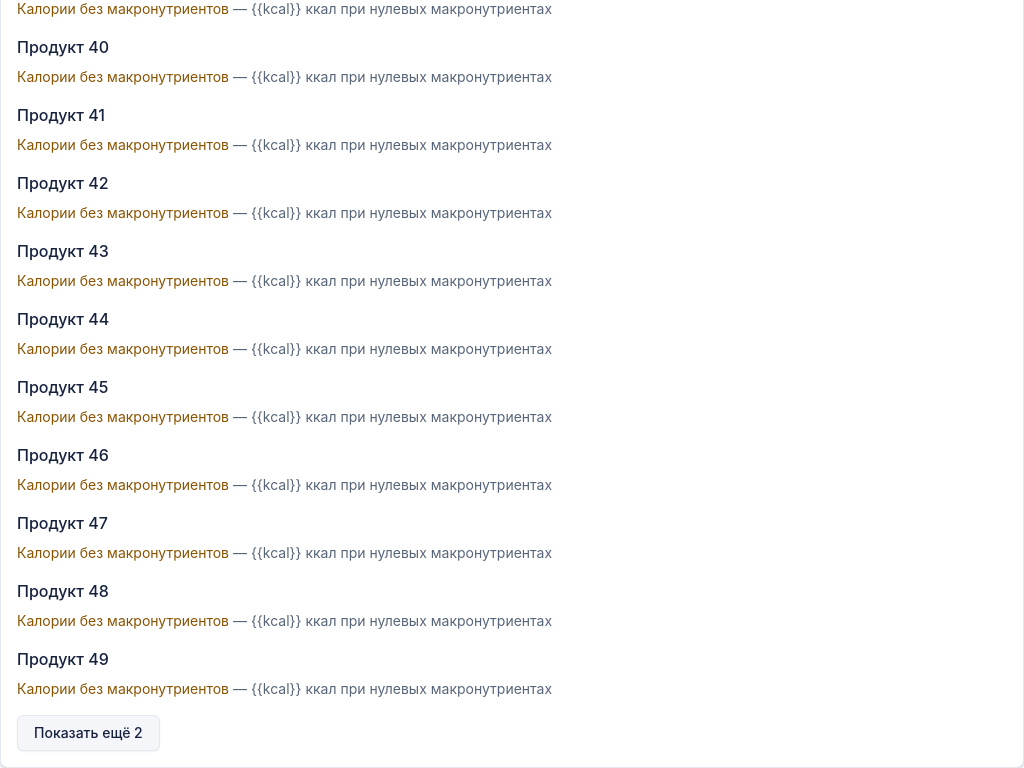
проверка базы продуктов › за первой страницей есть следующая, а не тупик «показано 50 из N»
The width and height of the screenshot is (1024, 768).
(page scrolled)
Click the button "Показать ещё 2": click(88, 733) x1=17 y1=715 x2=160 y2=751
(page scrolled)
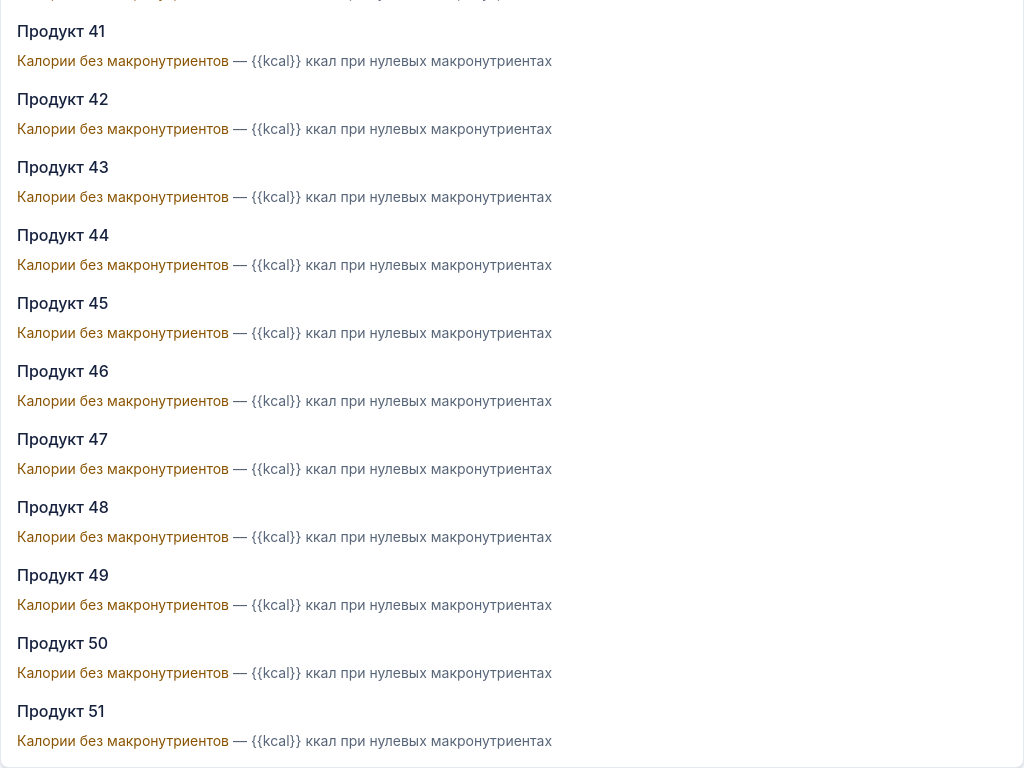
Expected: the link "Продукт 51" is shown, x1=17 y1=699 x2=104 y2=723
Expected: the button "Показать ещё" is gone
